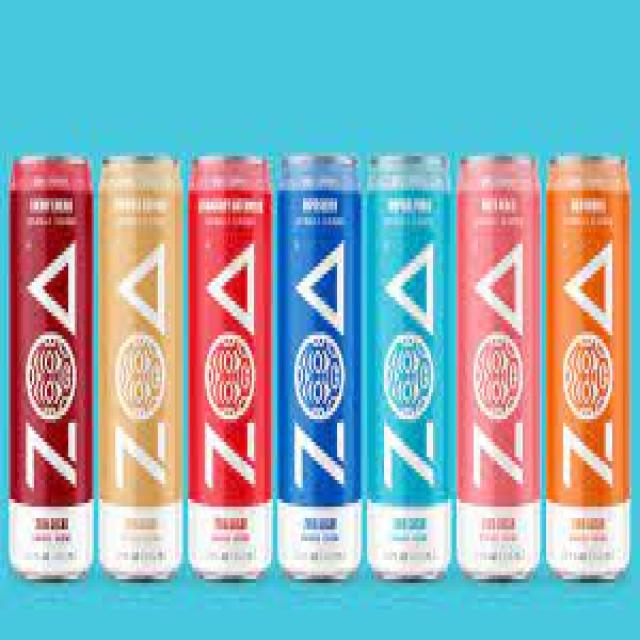Cans: (2, 145, 100, 590), (271, 130, 365, 590), (361, 144, 456, 586), (542, 144, 636, 586), (184, 137, 275, 587), (452, 148, 544, 586), (94, 148, 183, 586)
